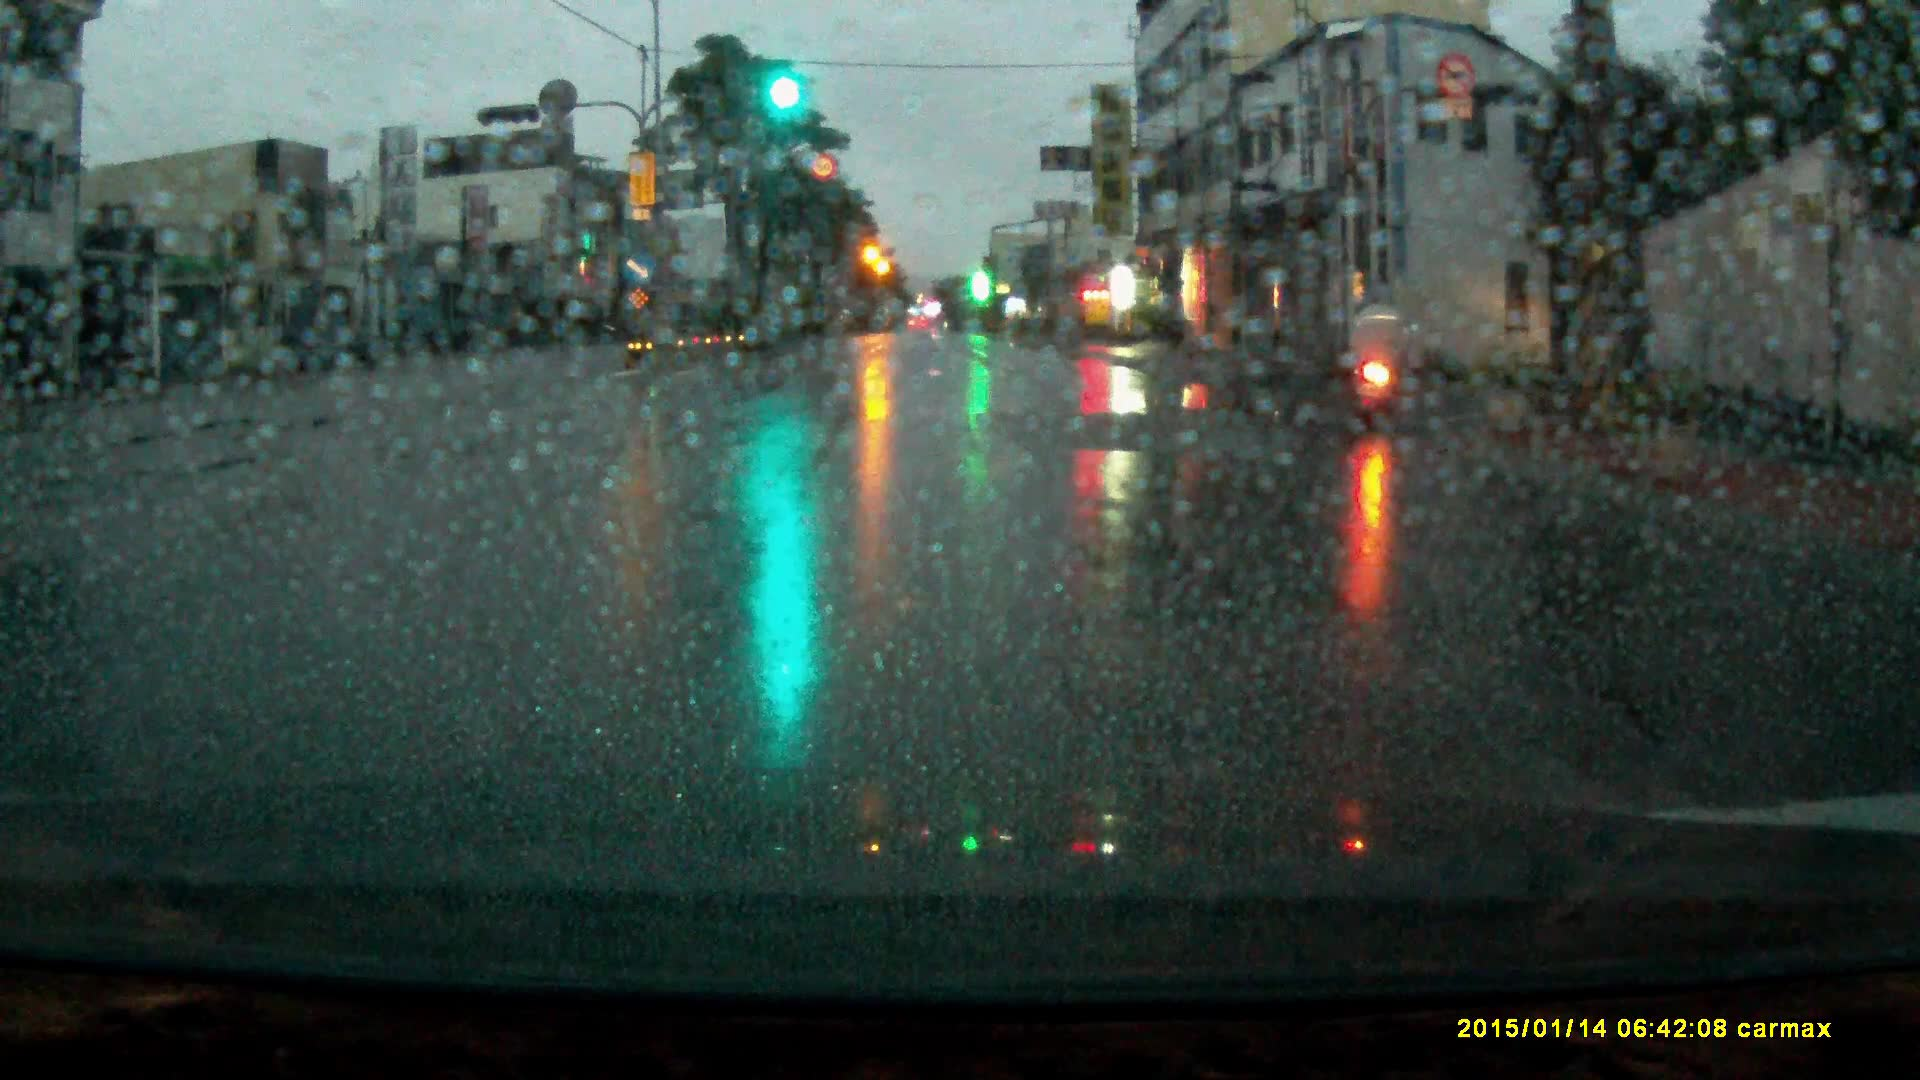rider: (1339, 286, 1429, 421)
